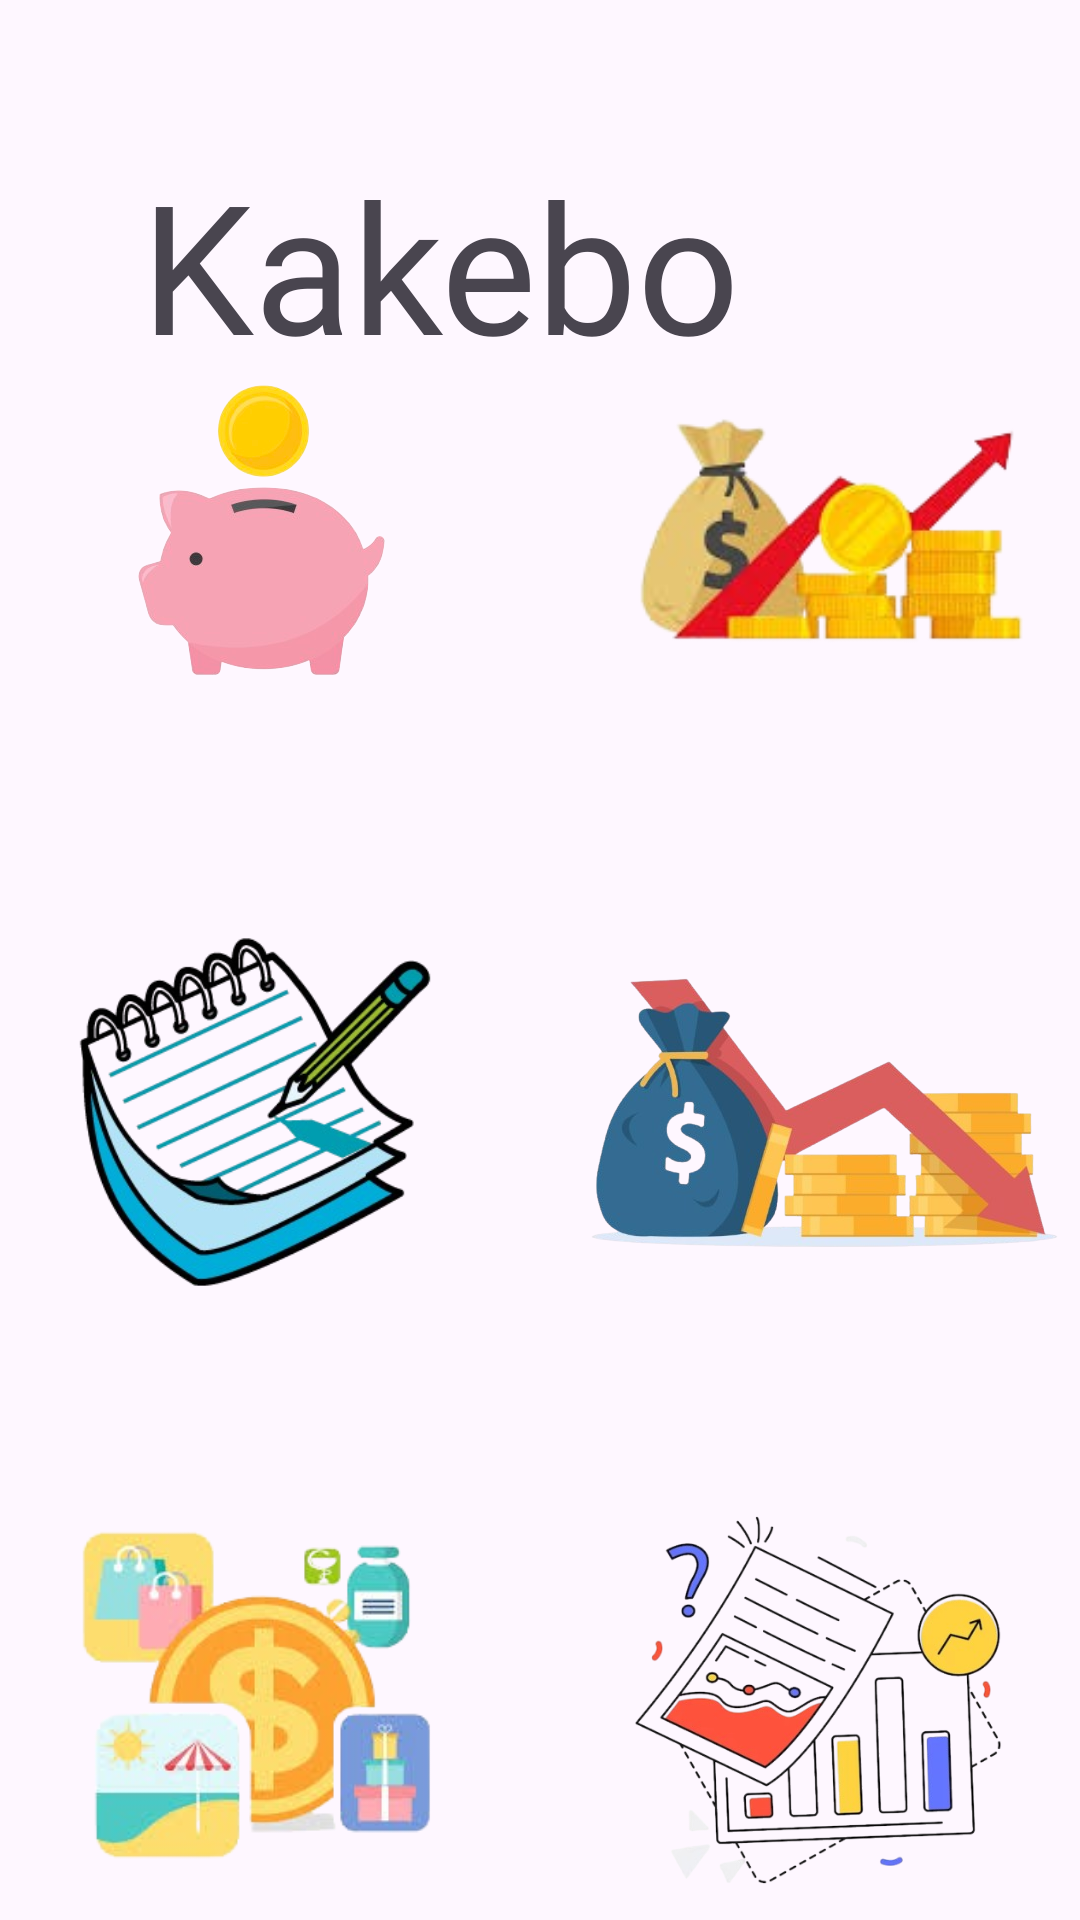

Where icons sit on this 1080px x 1920px app screen, as bbox(x1, y1, x2, y2):
categorias: bbox(83, 1532, 430, 1858)
notas: bbox(80, 938, 431, 1286)
